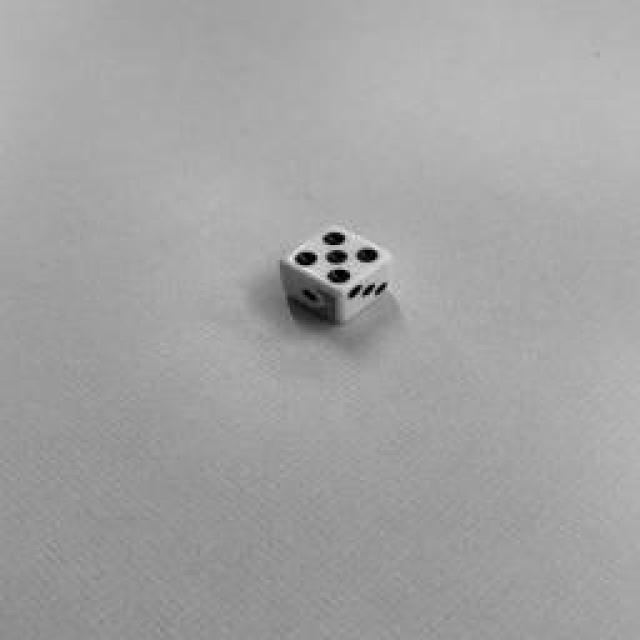dice_5: (284, 228, 388, 290)
